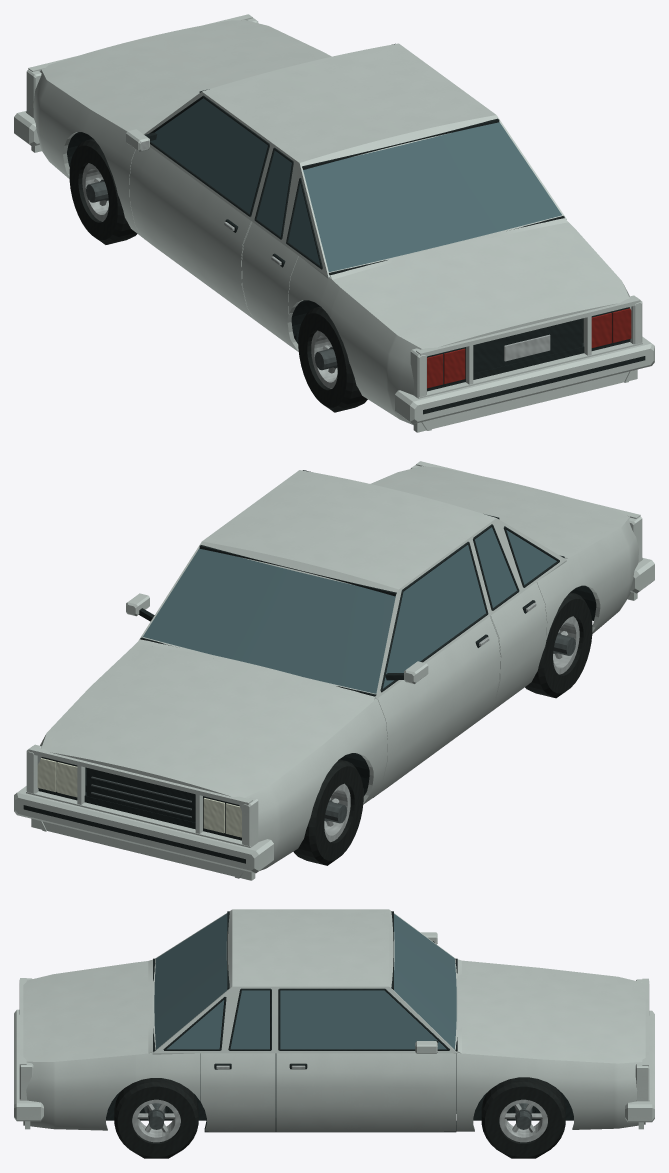
3 renders of one model, top to bottom at view 1: azimuth 30°, elevation 25°; view 2: azimuth 150°, elevation 25°; view 3: azimuth 270°, elevation 25°, orthographic. The views are drawn at different scales.
Visible parts, largest first — view 1: B028-01_body_shell_paint.001, B028-01_glazing_glass.001, B028-01_roof_paint, B028-01_body_shell_paint, B028-01_door_leaf_paint_front_door-1, B028-01_glazing_glass_front_door-1, B028-01_bumper_paint, B028-01_door_leaf_paint_rear_door-1, B028-01_body_shell_dark, B028-01_wheel_rubber_P-0.8050_-1.4300_0.3400, B028-01_wheel_rubber_P-0.8050_1.5200_0.3400, B028-01_lamps_red (+9 smaller); view 2: B028-01_body_shell_paint.001, B028-01_glazing_glass.001, B028-01_roof_paint, B028-01_body_shell_paint, B028-01_door_leaf_paint_front_door-1, B028-01_glazing_glass_front_door-1, B028-01_bumper_paint, B028-01_door_leaf_paint_rear_door-1, B028-01_body_shell_dark, B028-01_wheel_rubber_P-0.8050_1.5200_0.3400, B028-01_wheel_rubber_P-0.8050_-1.4300_0.3400, B028-01_lamps_lamp (+9 smaller); view 3: B028-01_body_shell_paint.001, B028-01_body_shell_paint, B028-01_door_leaf_paint_front_door1, B028-01_roof_paint, B028-01_glazing_glass.001, B028-01_glazing_glass_front_door1, B028-01_door_leaf_paint_rear_door1, B028-01_wheel_rubber_P0.8050_1.5200_0.3400, B028-01_wheel_rubber_P0.8050_-1.4300_0.3400, B028-01_bumper_paint, B028-01_glazing_glass_rear_door1, B028-01_glazing_glass (+8 smaller).
Part boxes in pixels (x1,y1,x2,y2): B028-01_body_shell_paint.001: (26,14,642,432); B028-01_glazing_glass.001: (303,122,561,272); B028-01_roof_paint: (202,43,495,162); B028-01_body_shell_paint: (33,69,634,430); B028-01_door_leaf_paint_front_door-1: (129,147,253,319); B028-01_glazing_glass_front_door-1: (150,98,267,213); B028-01_bumper_paint: (14,111,654,424); B028-01_door_leaf_paint_rear_door-1: (242,222,298,351); B028-01_body_shell_dark: (427,318,630,391); B028-01_wheel_rubber_P-0.8050_-1.4300_0.3400: (298,306,367,412); B028-01_wheel_rubber_P-0.8050_1.5200_0.3400: (69,138,137,244); B028-01_lamps_red: (427,308,631,388); B028-01_body_shell_paint.001: (26,461,642,880); B028-01_glazing_glass.001: (143,548,395,693); B028-01_roof_paint: (202,470,495,589); B028-01_body_shell_paint: (37,517,638,878); B028-01_door_leaf_paint_front_door-1: (375,616,500,796); B028-01_glazing_glass_front_door-1: (383,545,485,688); B028-01_bumper_paint: (14,558,654,873); B028-01_door_leaf_paint_rear_door-1: (488,582,546,713); B028-01_body_shell_dark: (38,767,241,840); B028-01_wheel_rubber_P-0.8050_1.5200_0.3400: (293,759,363,865); B028-01_wheel_rubber_P-0.8050_-1.4300_0.3400: (525,592,592,698); B028-01_lamps_lamp: (37,758,241,837); B028-01_body_shell_paint.001: (19,910,649,1129); B028-01_body_shell_paint: (23,1052,645,1131); B028-01_door_leaf_paint_front_door1: (276,1051,455,1131); B028-01_roof_paint: (232,909,389,986); B028-01_glazing_glass.001: (154,913,456,1049); B028-01_glazing_glass_front_door1: (280,990,446,1049); B028-01_door_leaf_paint_rear_door1: (201,1053,274,1131); B028-01_wheel_rubber_P0.8050_1.5200_0.3400: (481,1077,565,1158); B028-01_wheel_rubber_P0.8050_-1.4300_0.3400: (114,1078,198,1158); B028-01_bumper_paint: (14,1009,654,1122); B028-01_glazing_glass_rear_door1: (230,990,269,1049); B028-01_glazing_glass: (167,1000,224,1049).
Size of the model in its own units: 2.16 by 1.48 by 5.15.
Materials: 9 (9 with a texture image).
